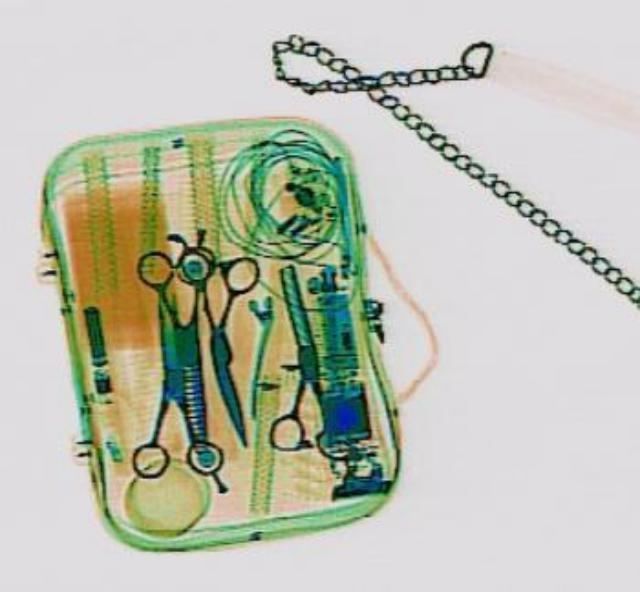Scissors: (130, 241, 236, 469), (246, 258, 356, 460), (116, 298, 218, 475), (188, 246, 266, 444)
